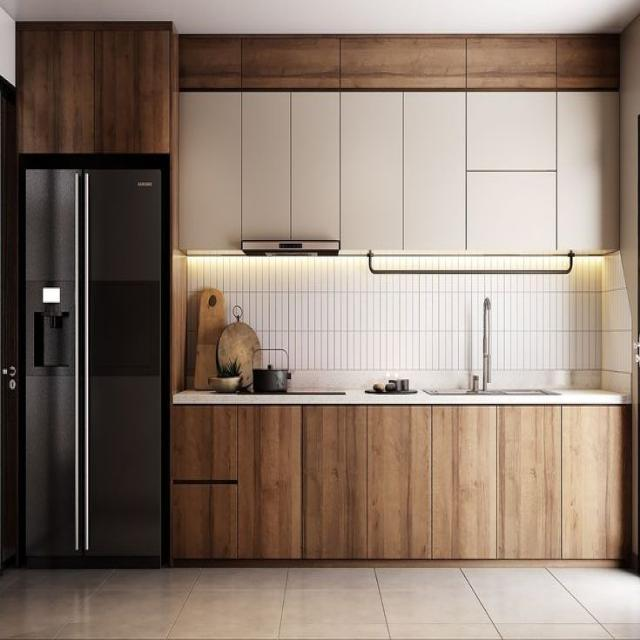obstacle: (176, 403, 634, 564), (180, 88, 622, 254), (20, 155, 166, 570)
